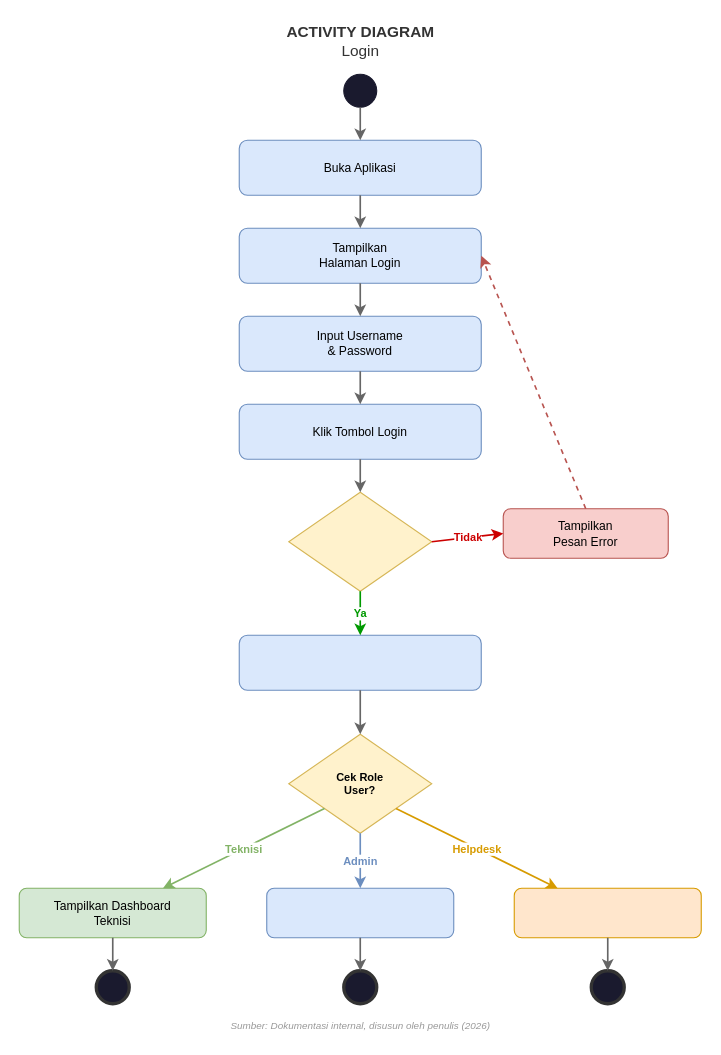
Some shapes in this 721 by 1055 pixel diagram are drawn without their labels. The shapes that lost their labels are listed below. From the top down, each one's box as (x1, y1, x2, y2) in pixels, then its label:
(288, 491, 432, 591): Username & Password Valid?
(238, 634, 481, 690): Generate JWT Token
(266, 887, 454, 938): Tampilkan Dashboard Admin
(513, 887, 701, 938): Tampilkan Dashboard Helpdesk
